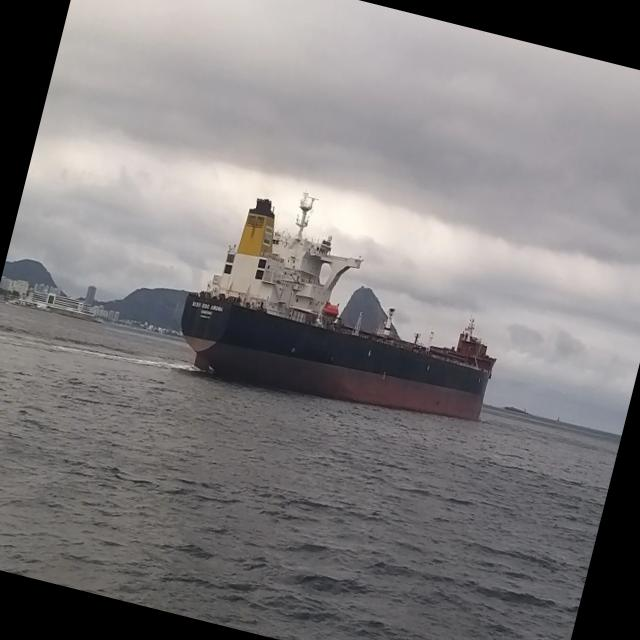Tanker: (181, 194, 496, 420)
